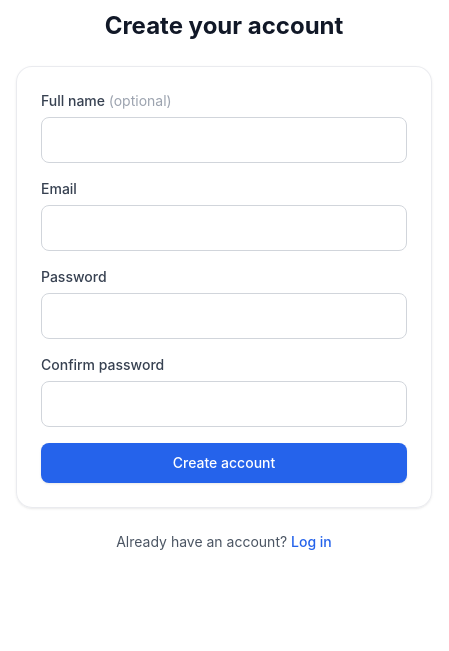
Test: Register password validation › shows the requirement checklist as unmet for a weak password
In the password field labelled "Password": coordinates (224, 316) [41,293,407,339], type "weak"
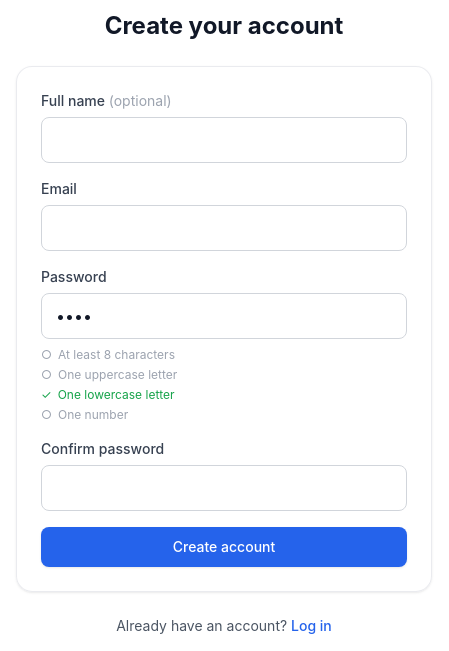
Check: the list item "At least 8 characters" is shown, box [58,347,175,362]
Check: the text "✓" is shown once, box [41,387,52,403]
